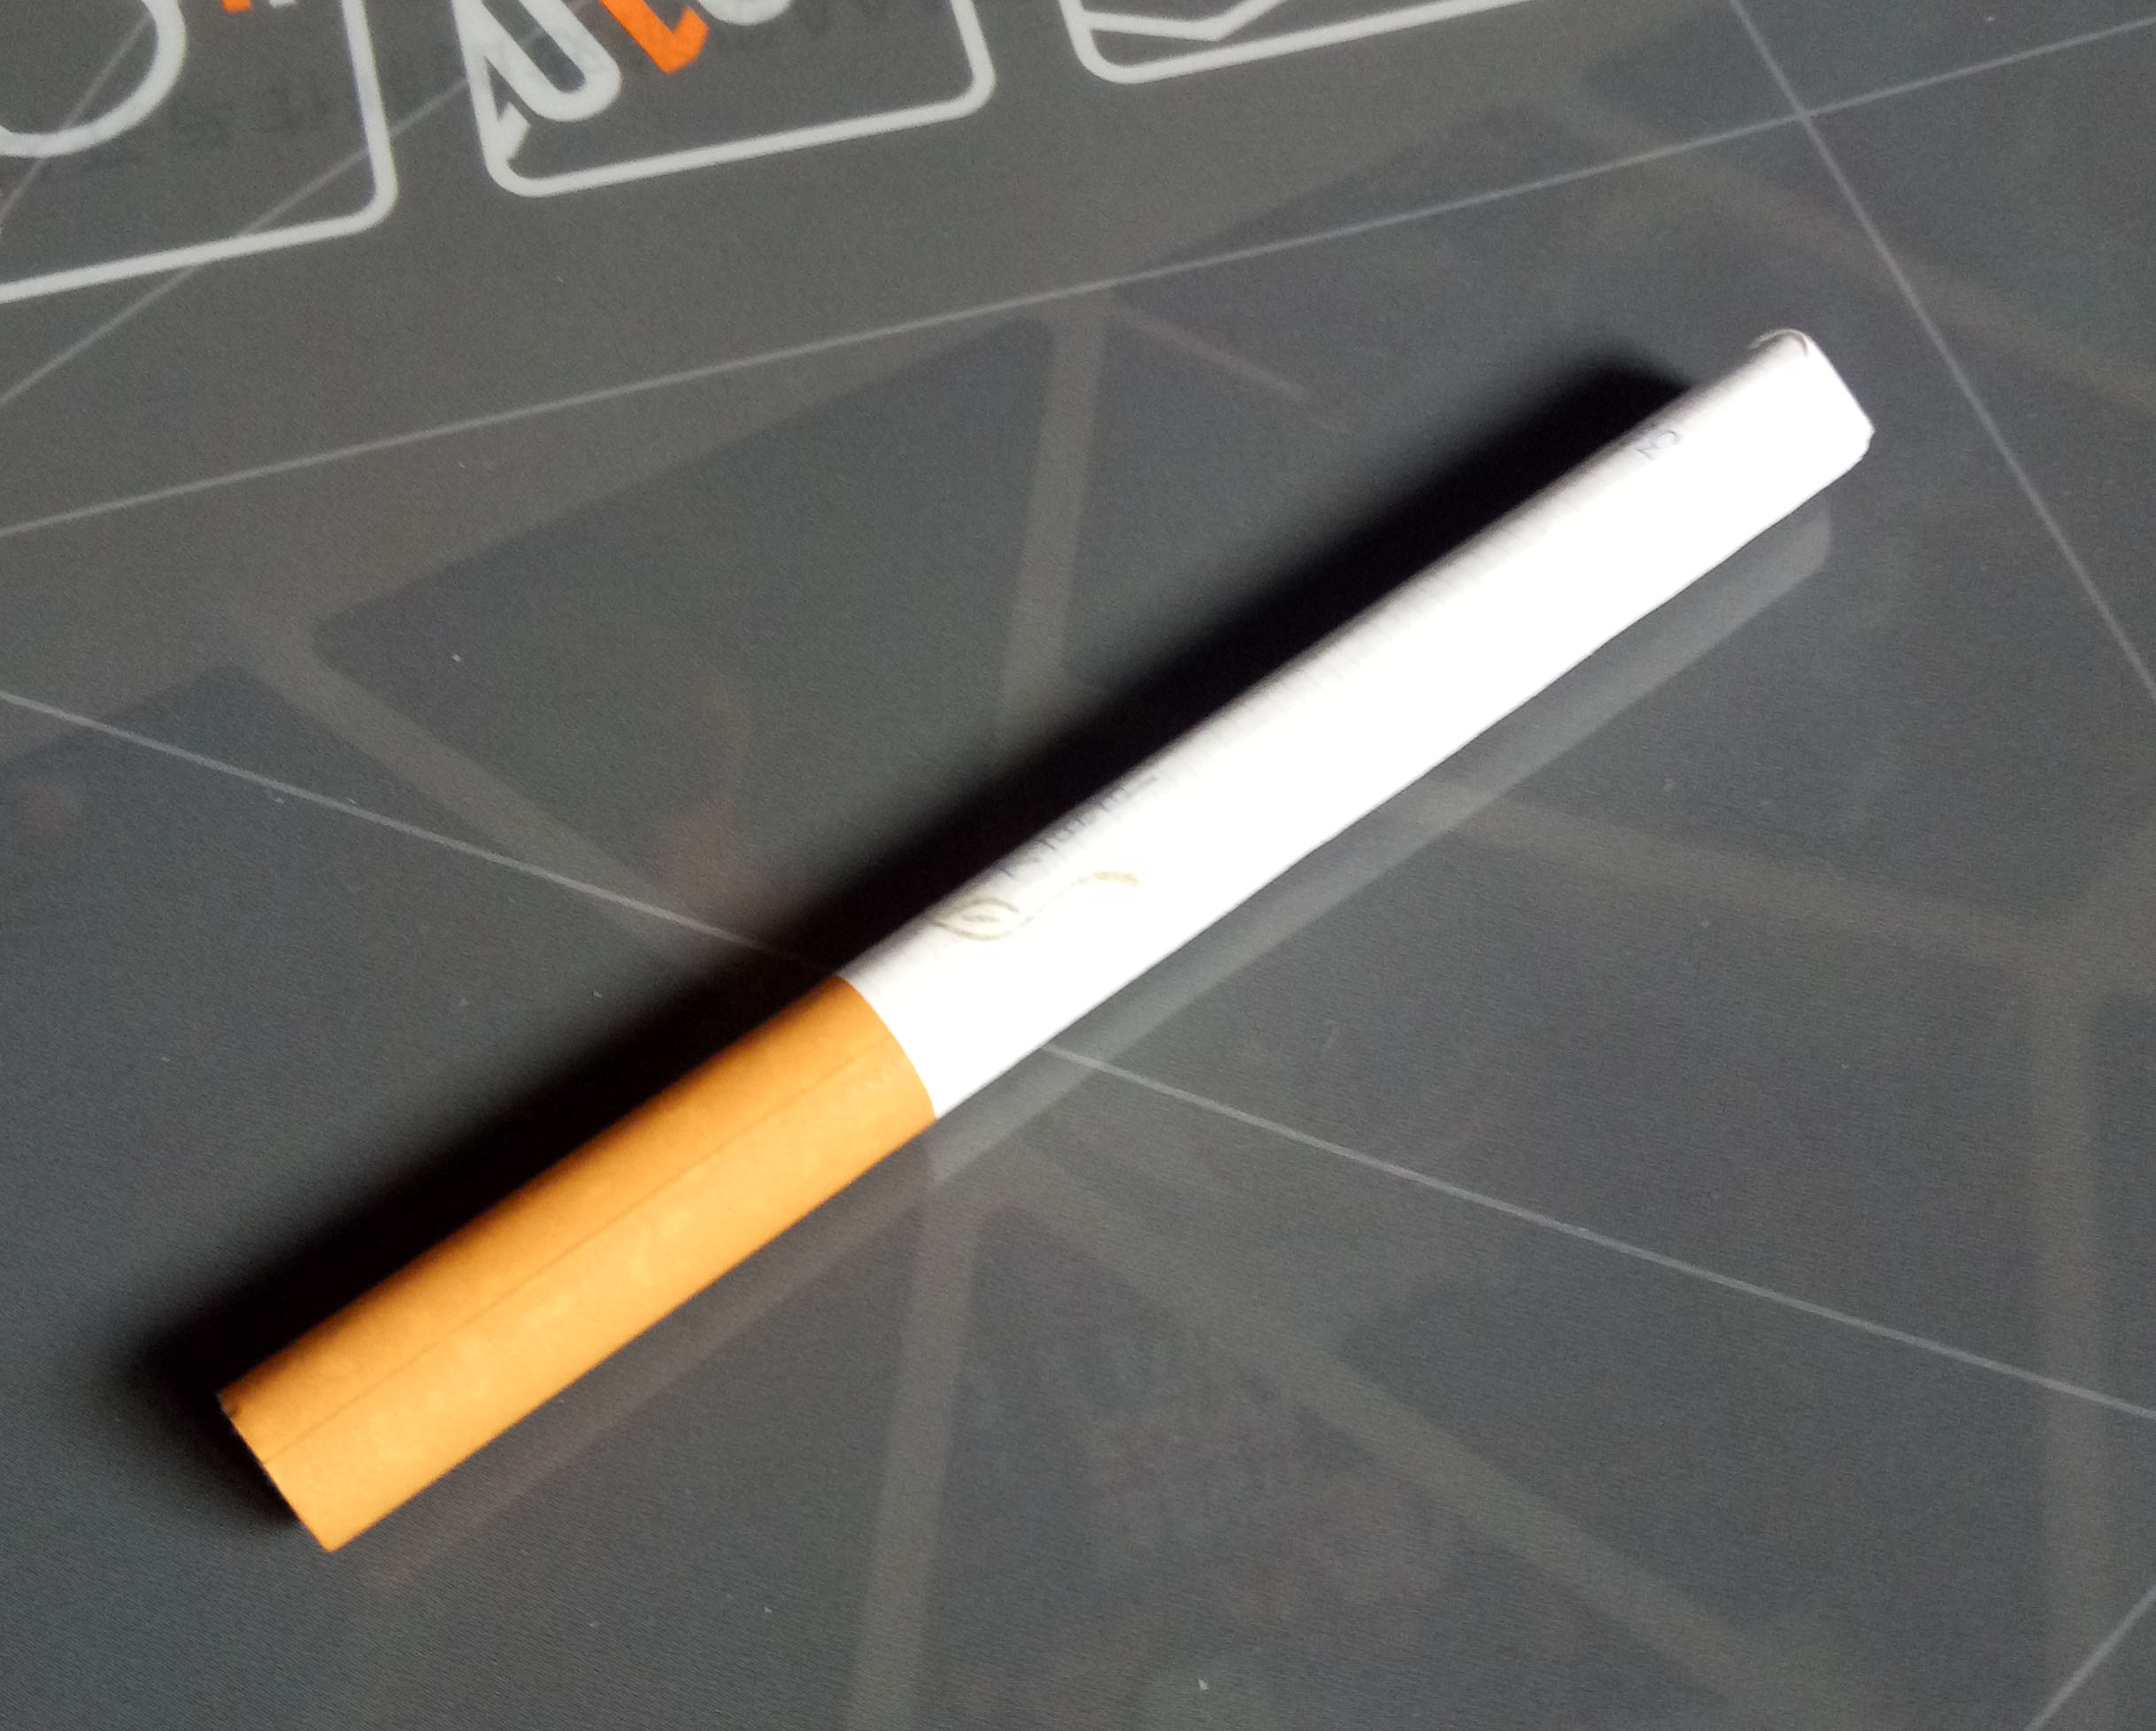cigarette: (168, 265, 1896, 1577)
